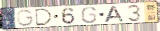3: (126, 3, 142, 23)
6: (61, 7, 77, 25)
A: (104, 5, 126, 23)
D: (35, 8, 54, 27)
G: (16, 9, 35, 27), (81, 6, 98, 24)
